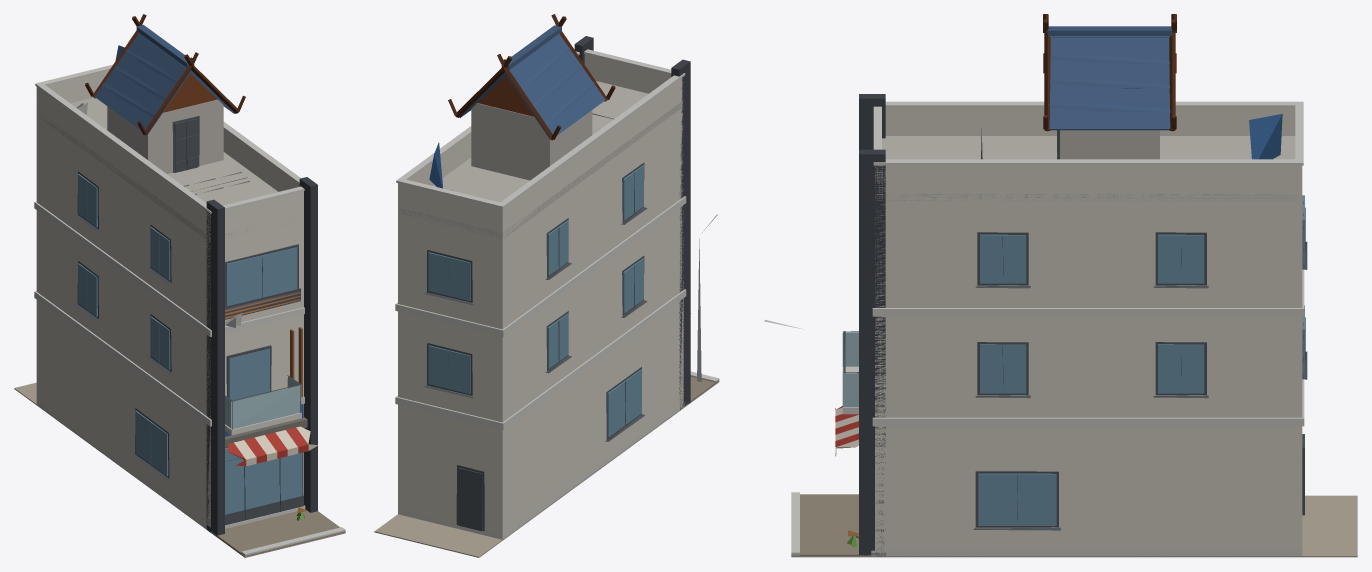
File: bay1_one.glb
3 renders of one model, left to right at view 1: azimuth 30°, elevation 25°; view 2: azimuth 150°, elevation 25°; view 3: azimuth 270°, elevation 25°, orthographic. The views are drawn at different scales.
Parts seen in each view (by area): view 1: body; view 2: body; view 3: body.
Part boxes in pixels (bbox=[...]): body: bbox=[14, 14, 345, 557]; body: bbox=[374, 14, 719, 557]; body: bbox=[764, 14, 1357, 557].
Size of the model in its own units: 4.71 by 16.1 by 16.88.
